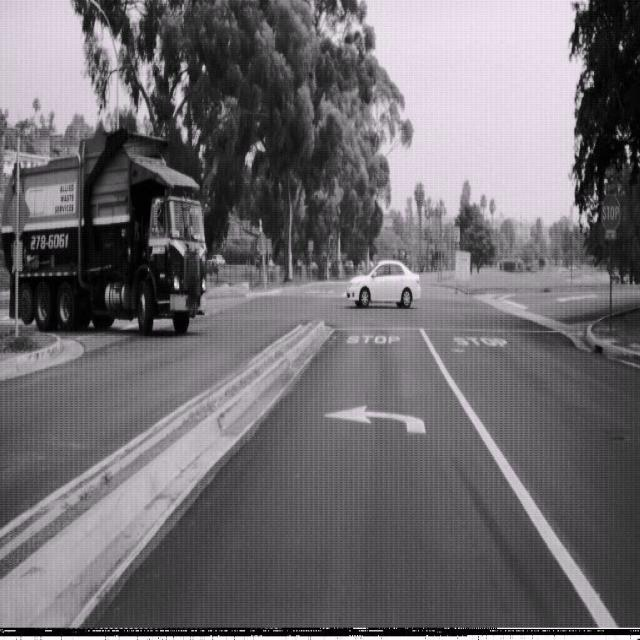stop: (600, 191, 620, 233)
